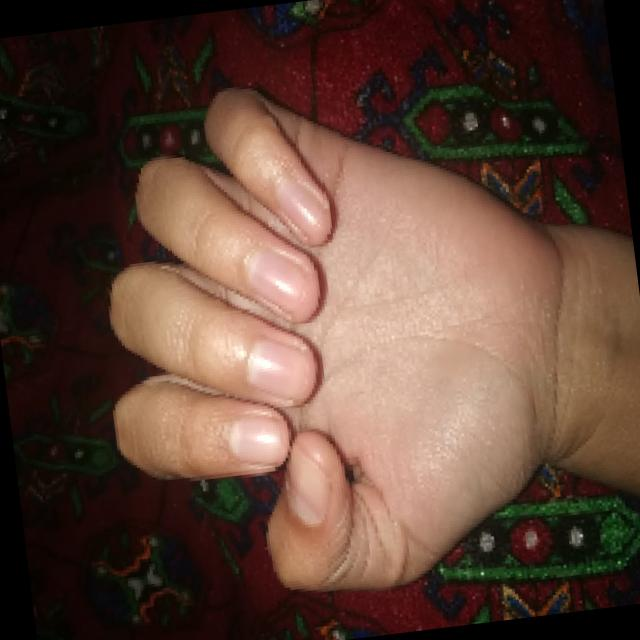Nail: (247, 247, 308, 312), (247, 339, 308, 398), (285, 444, 329, 525), (226, 415, 287, 464), (280, 181, 326, 238)
